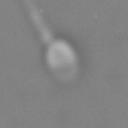normal: (20, 1, 51, 43)
